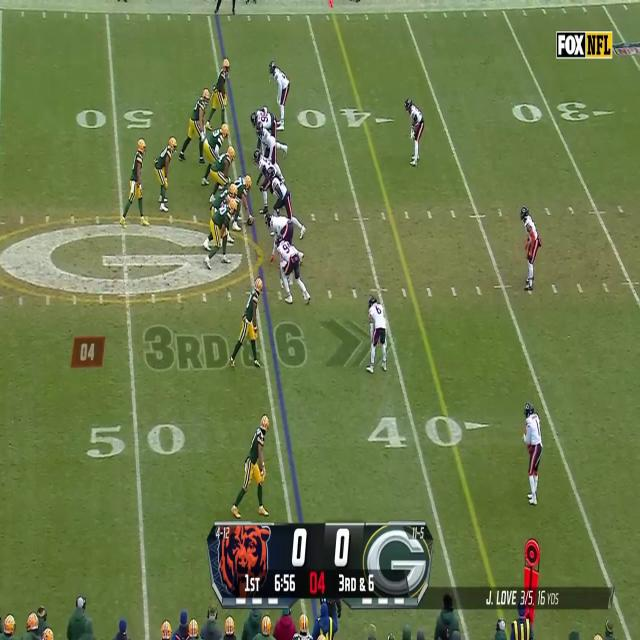Player: (241, 413, 270, 518), (237, 276, 264, 369), (523, 401, 543, 506), (125, 135, 147, 228), (520, 205, 542, 292), (186, 87, 210, 165), (153, 136, 177, 212), (211, 200, 237, 268), (276, 235, 300, 304), (268, 59, 290, 131), (367, 293, 386, 374), (404, 98, 424, 166), (210, 57, 230, 124), (268, 167, 292, 216), (254, 148, 270, 212), (209, 146, 235, 183), (203, 123, 229, 159), (265, 214, 295, 244), (251, 106, 276, 129), (257, 122, 276, 152), (211, 183, 238, 204), (235, 174, 252, 204)
